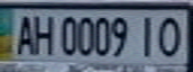0: (54, 12, 78, 56), (93, 12, 112, 57), (75, 14, 93, 57)
9: (109, 12, 133, 59)
A: (9, 11, 39, 56)
H: (30, 11, 57, 56)
I: (133, 12, 160, 59)
O: (154, 14, 187, 58)
